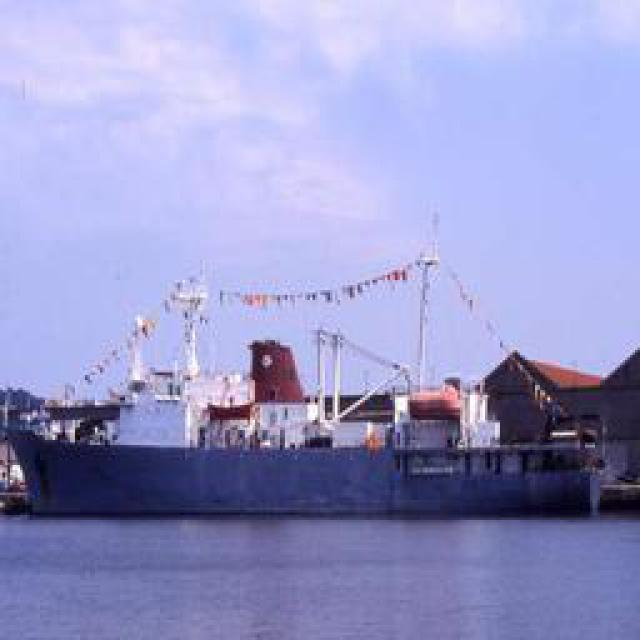Ship: (10, 226, 595, 509)
